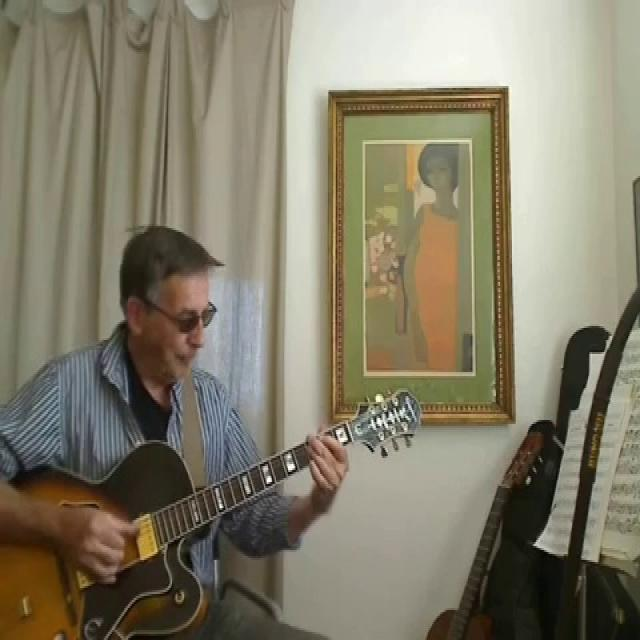Guitar: (3, 374, 435, 640)
